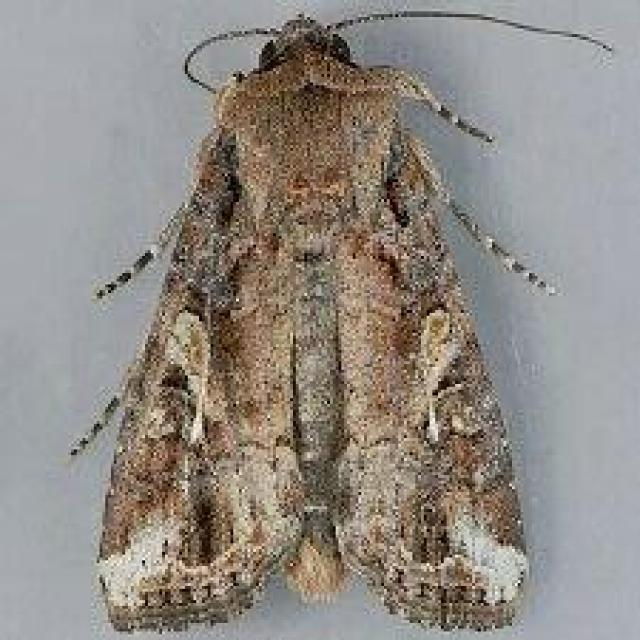BeetArmyWorm-Adult-: (62, 19, 615, 637)
